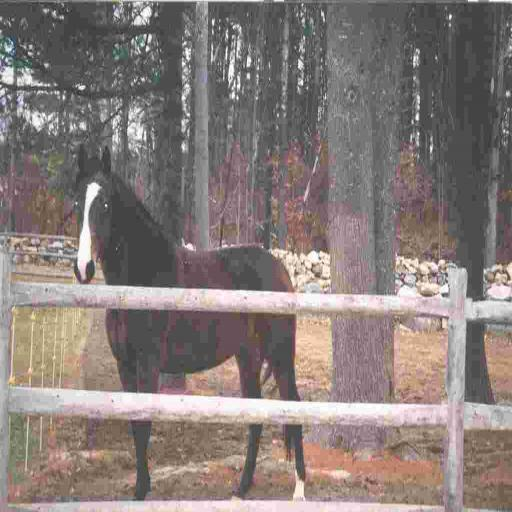horse: (70, 142, 305, 501)
